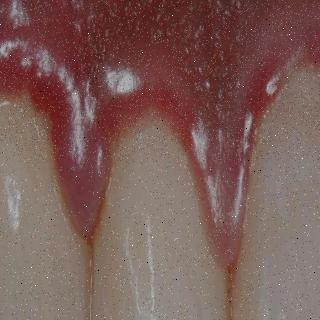Gum Swelling: (0, 24, 320, 266)
